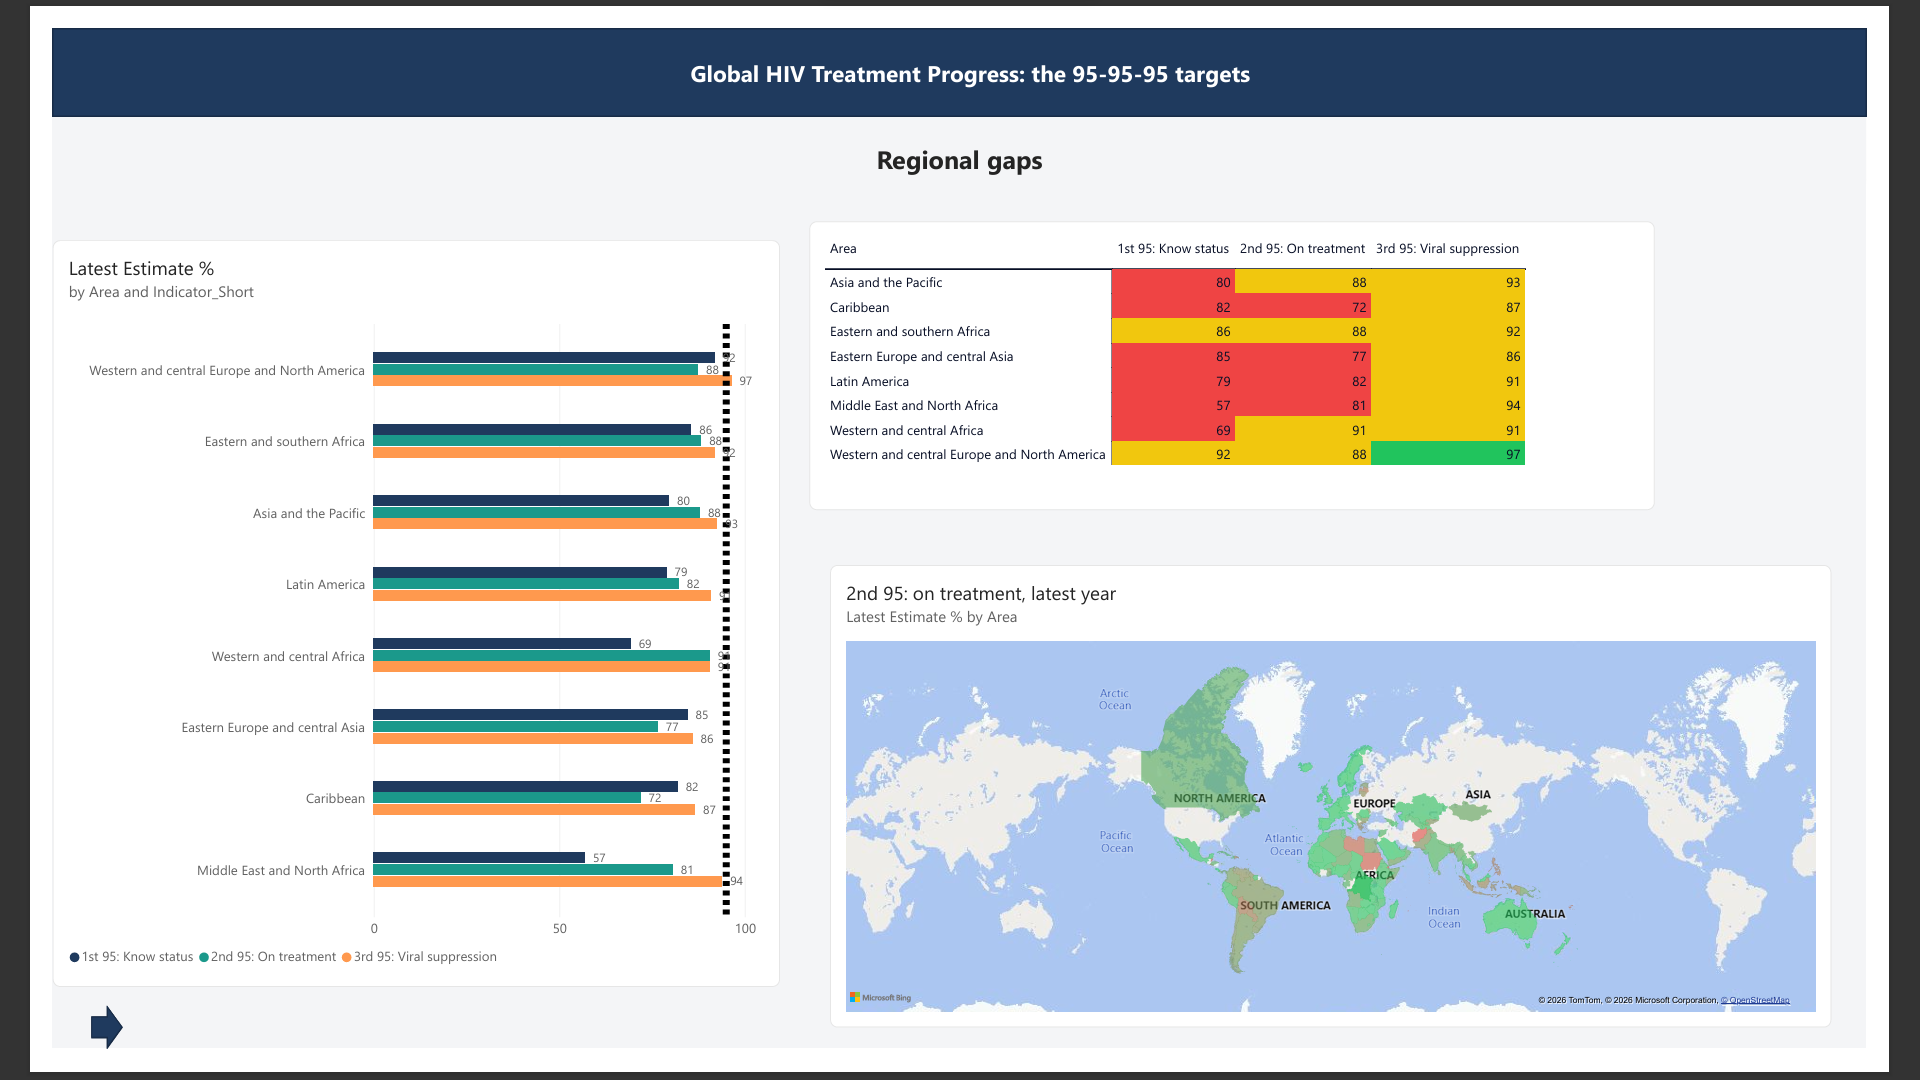

Layout of this report page (visuals, bound fields, positions):
{"tool":"powerbi","page":{"name":"Regional gaps","canvas":[1920,1080],"ordinal":1},"visuals":[{"type":"shape","box":[0,0,1920,92.5],"z":0},{"type":"textbox","box":[385,30,1172.5,62.5],"z":1000},{"type":"shape","box":[41.2,1035.3,32.9,45.3],"z":2000},{"type":"shape","box":[41.2,1034.7,32.9,45.3],"z":3000},{"type":"clusteredBarChart","fields":{"Category":["HIV_Data.Area"],"Series":["HIV_Data.Indicator_Short"],"Y":["HIV_Data.Latest Estimate %"]},"box":[0,224.4,769.8,790.4],"z":4000},{"type":"pivotTable","fields":{"Columns":["HIV_Data.Indicator_Short"],"Rows":["HIV_Data.Area"],"Values":["HIV_Data.Latest Estimate %"]},"box":[800.7,203.8,895.4,306.7],"z":5000},{"type":"filledMap","title":"2nd 95: on treatment, latest year","fields":{"Category":["HIV_Data.Area"]},"box":[823.3,568.1,1060,489.9],"z":6000},{"type":"textbox","box":[0,120,1920,62.5],"z":6001}]}

Visuals, with their boxes in screenshot pixels (x1, y1, x2, y2), scaled from the page's 1920x1080 canvas onto the 1920x1080 screenshot:
shape: crop(0, 0, 1919, 92)
textbox: crop(385, 30, 1558, 92)
shape: crop(41, 1035, 74, 1079)
shape: crop(41, 1035, 74, 1079)
clusteredBarChart - HIV_Data.Area x HIV_Data.Indicator_Short: crop(0, 224, 770, 1015)
pivotTable - HIV_Data.Indicator_Short x HIV_Data.Area: crop(801, 204, 1696, 510)
"2nd 95: on treatment, latest year" filledMap: crop(823, 568, 1883, 1058)
textbox: crop(0, 120, 1919, 182)
